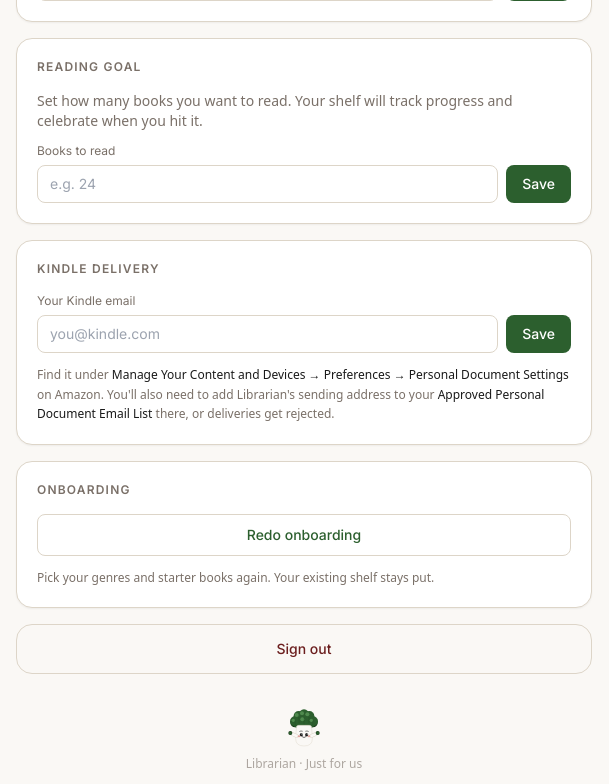
Settings — redo onboarding › surfaces an error and does not refresh when the reset fails
(page scrolled)
Step 1. Click the button "Redo onboarding" → (304, 534), box x1=37 y1=514 x2=571 y2=556
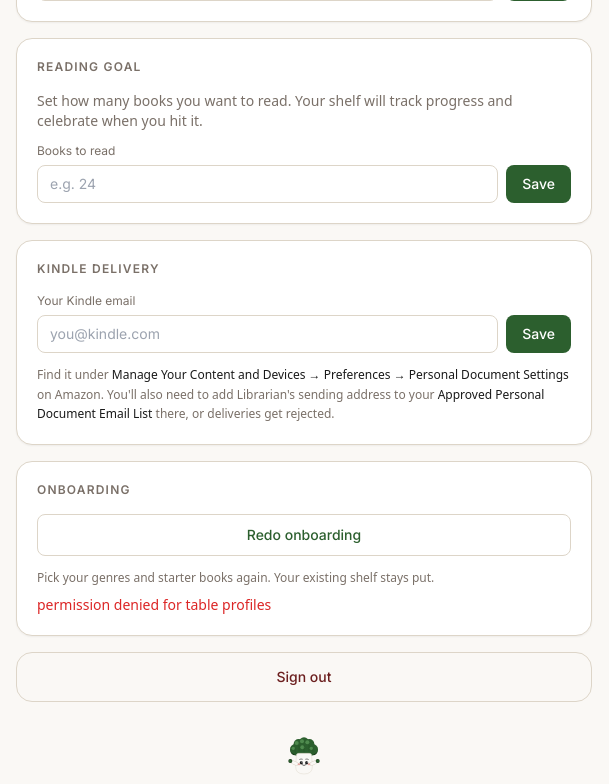
Check: the text "permission denied for table profiles" is shown, box x1=37 y1=595 x2=271 y2=614
